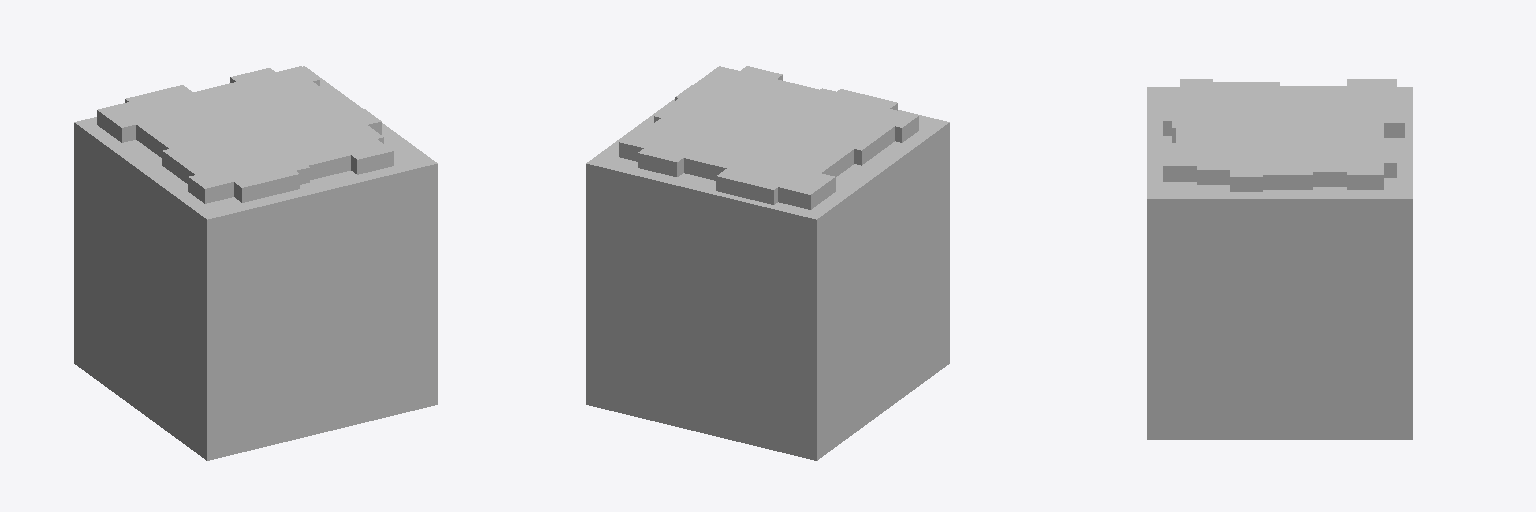
The model's file is GrassPathCenter.obj.
The picture shows the model from 3 angles: view 1: azimuth 30°, elevation 25°; view 2: azimuth 150°, elevation 25°; view 3: azimuth 270°, elevation 25°; orthographic projection.
Visible parts, largest first — view 1: cube; view 2: cube; view 3: cube.
Part boxes in pixels (x1,y1,x2,y2): cube: (74,66,437,460); cube: (586,66,949,460); cube: (1147,79,1412,439).
Bounding box in the file's own units: 1 × 1.06 × 1.